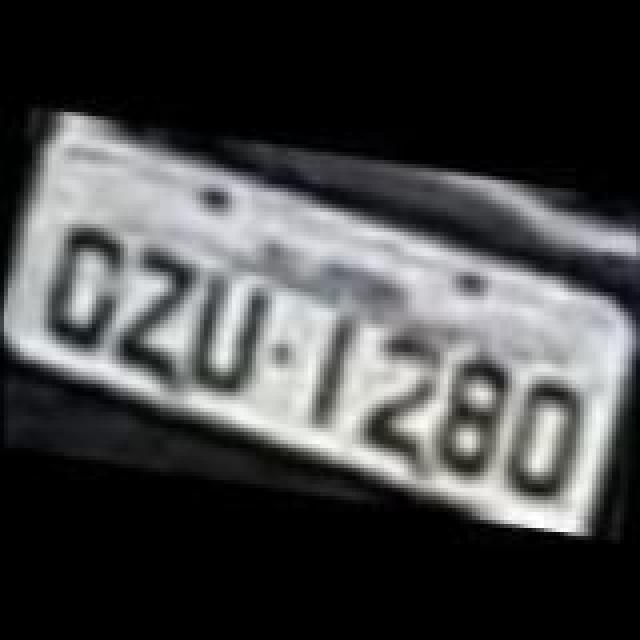1: (296, 306, 364, 430)
2: (356, 322, 452, 466)
8: (428, 350, 516, 490)
O: (34, 216, 130, 352), (502, 368, 594, 500)
U: (178, 262, 274, 402)
Z: (108, 242, 200, 374)
